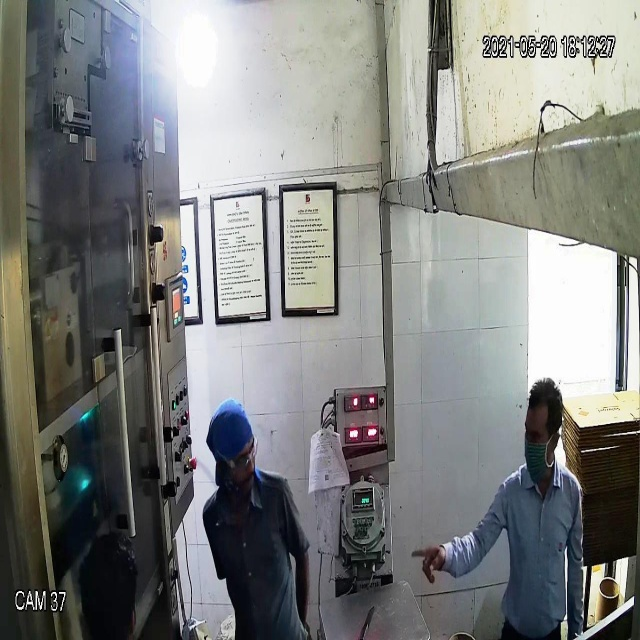Gafas: (209, 435, 261, 468)
Sin_gafas: (521, 417, 557, 451)
